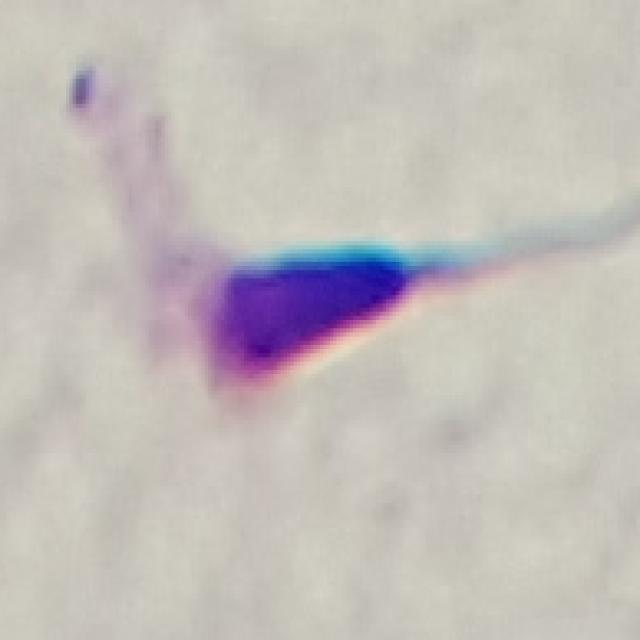abnormal sperm: (174, 196, 640, 417)
